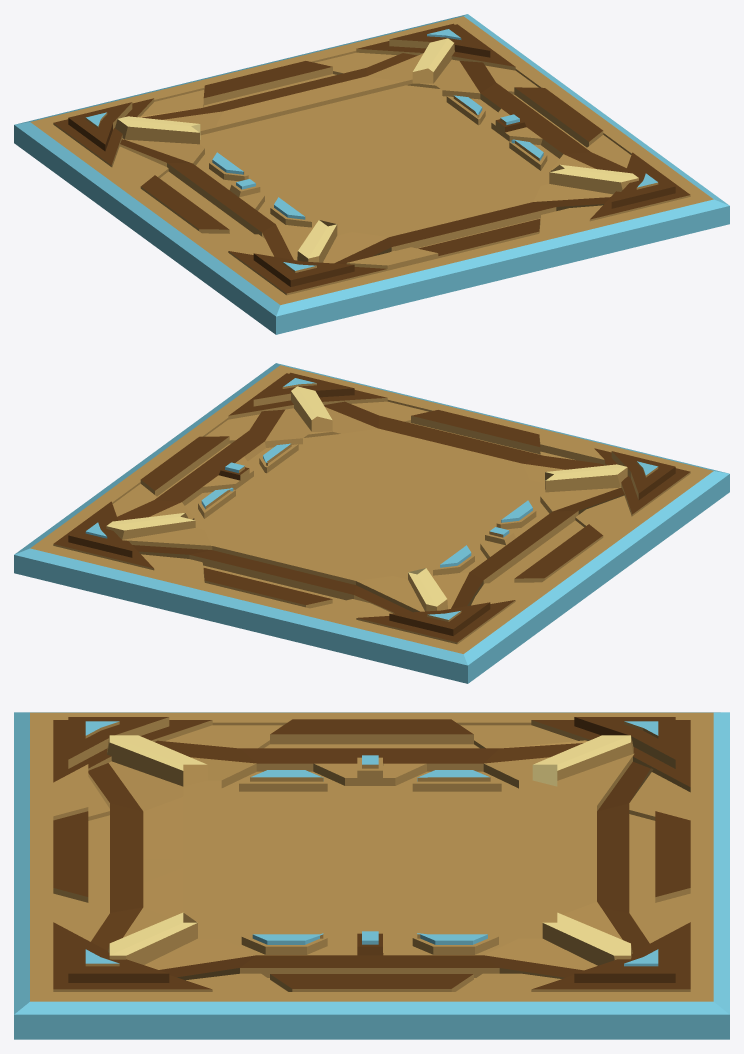
Rendered from Plateau_decors.fbx.
3 renders of one model, top to bottom at view 1: azimuth 30°, elevation 25°; view 2: azimuth 150°, elevation 25°; view 3: azimuth 270°, elevation 25°, orthographic. The views are drawn at different scales.
Parts seen in each view (by area): view 1: Jeu02; view 2: Jeu02; view 3: Jeu02.
Part boxes in pixels (x1=…): Jeu02: x1=14, y1=14, x2=729, y2=334; Jeu02: x1=14, y1=363, x2=729, y2=683; Jeu02: x1=14, y1=712, x2=729, y2=1039.
Bounding box in the file's own units: 524 × 39.06 × 524.
